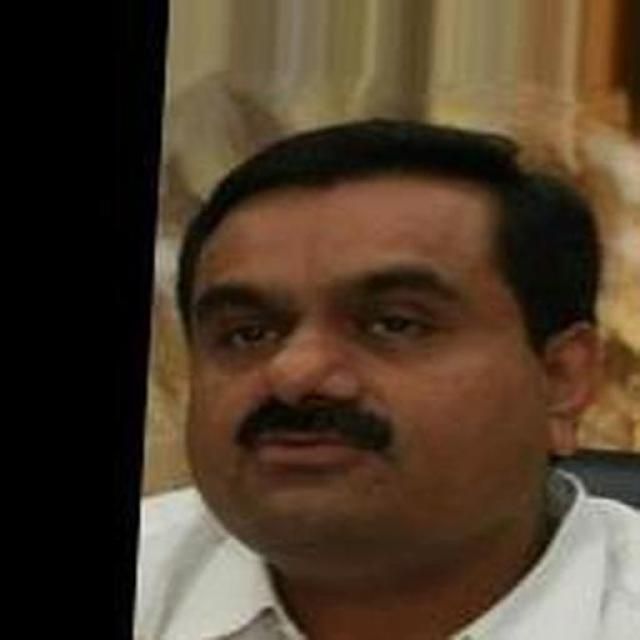bareface: (195, 112, 562, 556)
